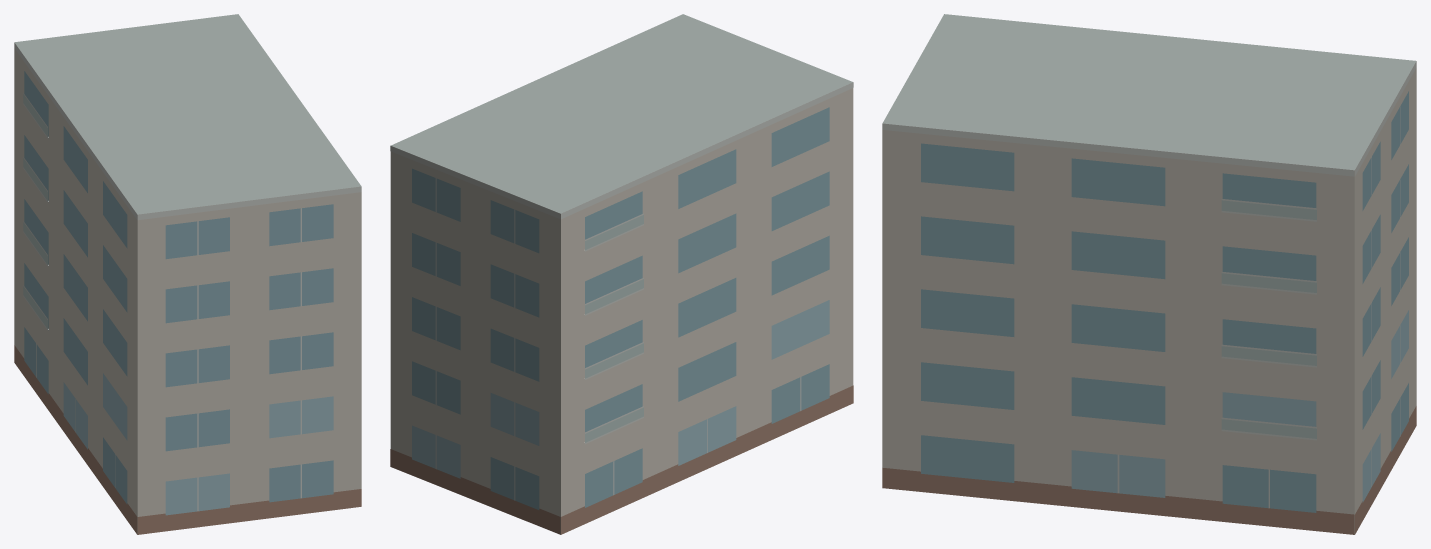
The model's file is survey-upis-32900775.glb.
3 renders of one model, left to right at view 1: azimuth 30°, elevation 25°; view 2: azimuth 150°, elevation 25°; view 3: azimuth 270°, elevation 25°, orthographic. The views are drawn at different scales.
Visible parts, largest first — view 1: survey-upis-32900775.tmp; view 2: survey-upis-32900775.tmp; view 3: survey-upis-32900775.tmp.
Boxes of the visible parts, x1,y1,x2,y2 form: survey-upis-32900775.tmp: [14, 14, 361, 534]; survey-upis-32900775.tmp: [390, 14, 853, 534]; survey-upis-32900775.tmp: [882, 14, 1416, 534].
Bounding box in the file's own units: 12.79 × 13.9 × 18.47.
